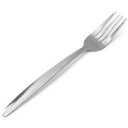fork: (2, 11, 128, 118)
